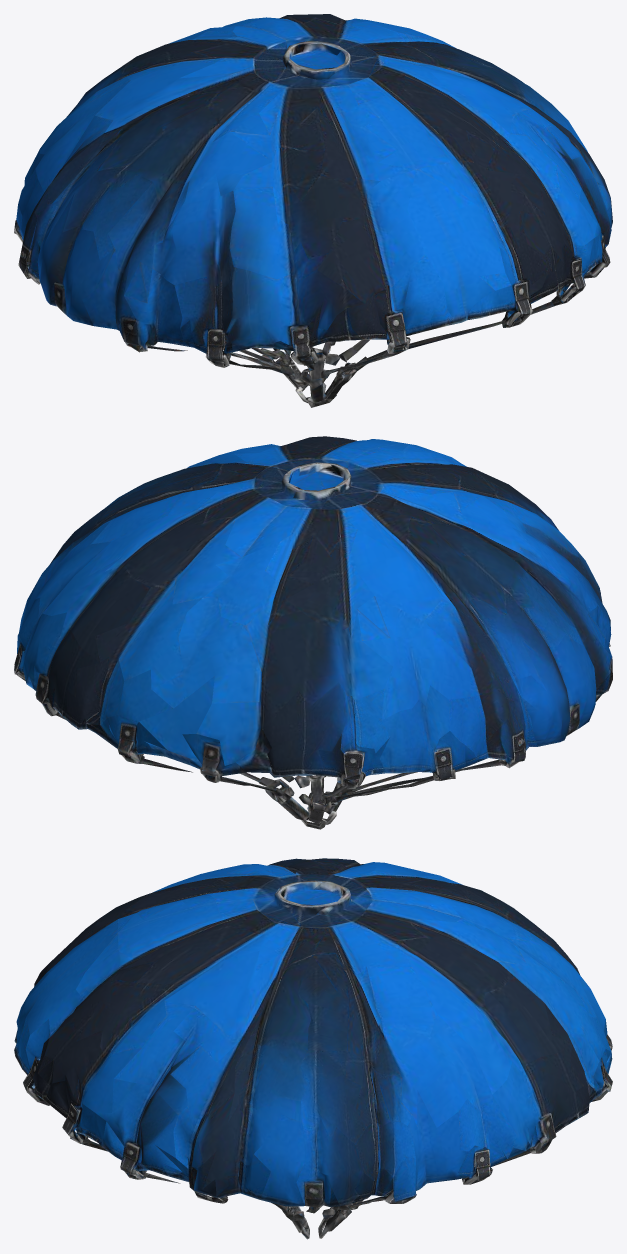
Rendered from parachute.glb.
The picture shows the model from 3 angles, top to bottom: view 1: azimuth 30°, elevation 25°; view 2: azimuth 150°, elevation 25°; view 3: azimuth 270°, elevation 25°; orthographic projection.
Visible parts, largest first — view 1: Mesh_0; view 2: Mesh_0; view 3: Mesh_0.
Part boxes in pixels (x1,y1,x2,y2): Mesh_0: [14, 14, 612, 407]; Mesh_0: [14, 436, 612, 829]; Mesh_0: [14, 858, 612, 1239].
Size of the model in its own units: 1.89 by 1.2 by 1.9.
Materials: 1 (1 with a texture image).
